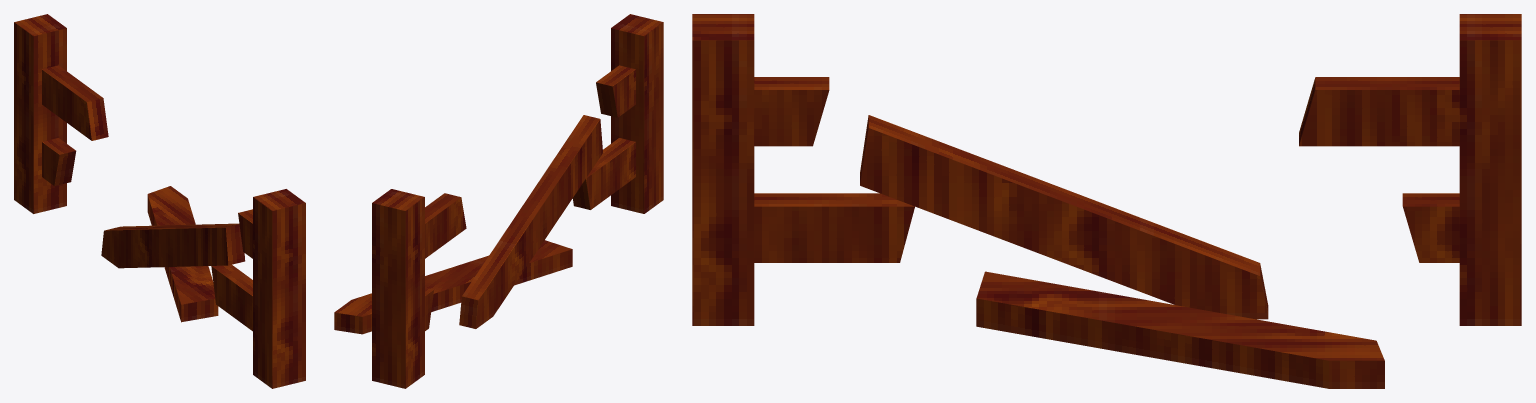
Rendered from woodfencebroken.glb.
The picture shows the model from 3 angles, left to right: view 1: azimuth 30°, elevation 25°; view 2: azimuth 150°, elevation 25°; view 3: azimuth 270°, elevation 25°; orthographic projection. The views are drawn at different scales.
Parts seen in each view (by area): view 1: fenceBroken; view 2: fenceBroken; view 3: fenceBroken.
Boxes of the visible parts, bbox=[...] form: fenceBroken: bbox=[14, 14, 305, 388]; fenceBroken: bbox=[334, 14, 663, 388]; fenceBroken: bbox=[692, 14, 1521, 388].
Bounding box in the file's own units: 0.2547 × 0.38 × 1.
2 materials, 1 textured.
